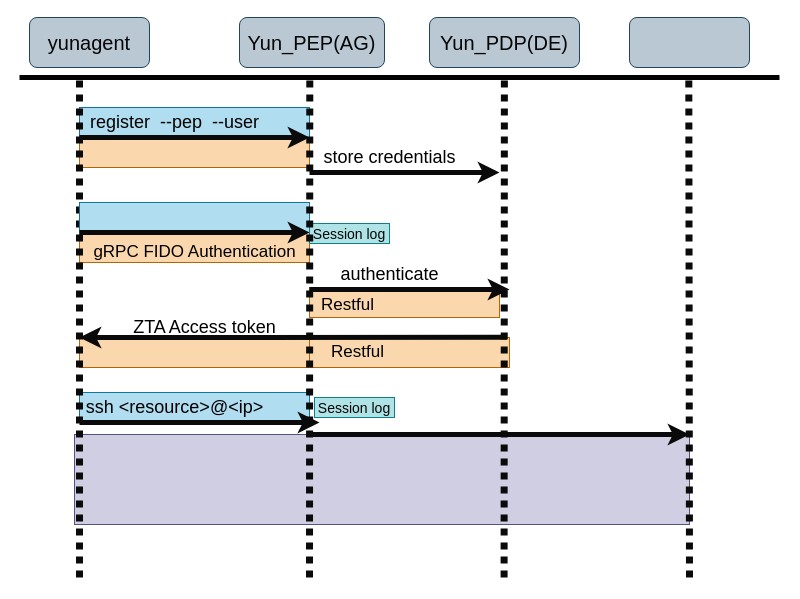
The diagram is 800 pixels wide and 599 high, and some of its shapes have lost their labels. The box of each missing label's shape, as (x1, y1, x2, y2) in pixels:
gRPC: (78, 336, 320, 368)
gRPC FIDO register: (78, 136, 310, 168)
LinuxRP: (628, 16, 750, 68)
login --pep --user: (78, 202, 310, 232)
tunnel: (74, 434, 690, 524)
